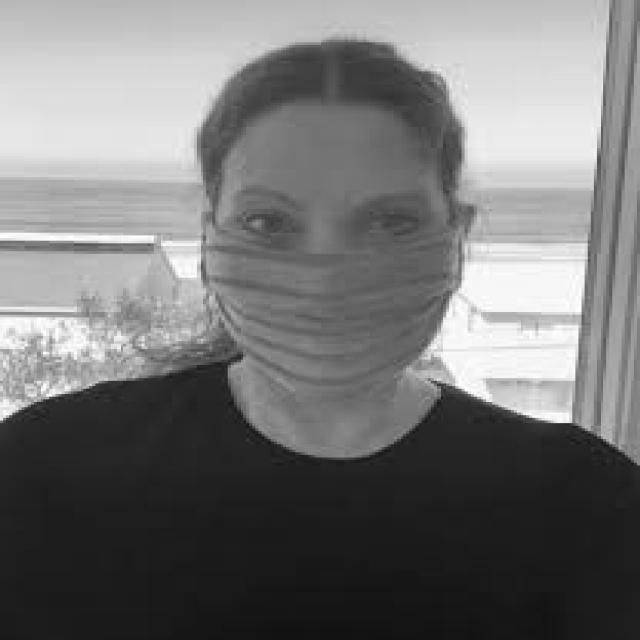fake: (198, 217, 466, 399)
real: (212, 109, 447, 408)
